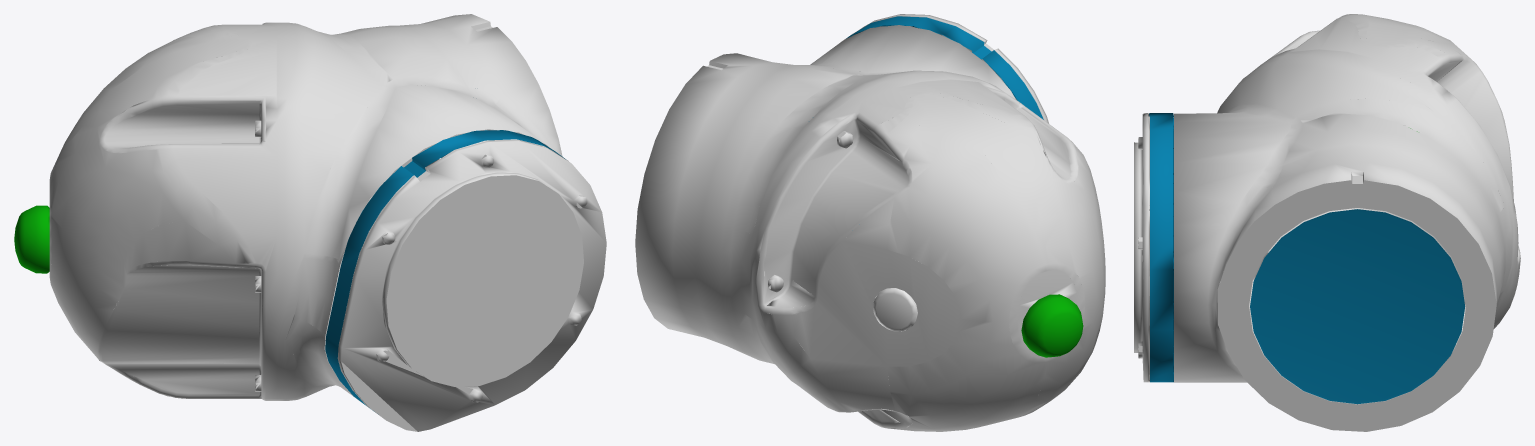
3 renders of one model, left to right at view 1: azimuth 30°, elevation 25°; view 2: azimuth 150°, elevation 25°; view 3: azimuth 270°, elevation 25°, orthographic. The views are drawn at different scales.
Parts seen in each view (by area): view 1: f_1-06vxhc10-b1_lk5; view 2: f_1-06vxhc10-b1_lk5; view 3: f_1-06vxhc10-b1_lk5.
Boxes of the visible parts, x1,y1,x2,y2 form: f_1-06vxhc10-b1_lk5: (14, 14, 606, 431); f_1-06vxhc10-b1_lk5: (635, 14, 1105, 431); f_1-06vxhc10-b1_lk5: (1134, 14, 1520, 431).
Bounding box in the file's own units: 0.2208 × 0.1834 × 0.162.
